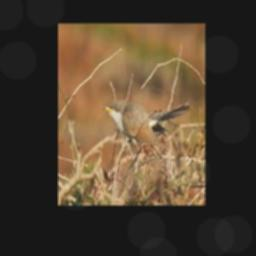Cuckoo: (102, 101, 190, 145)
